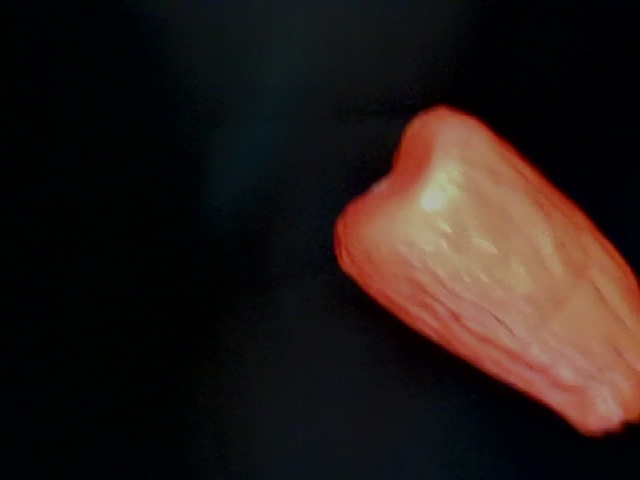CYLJ: (507, 19, 640, 304)
